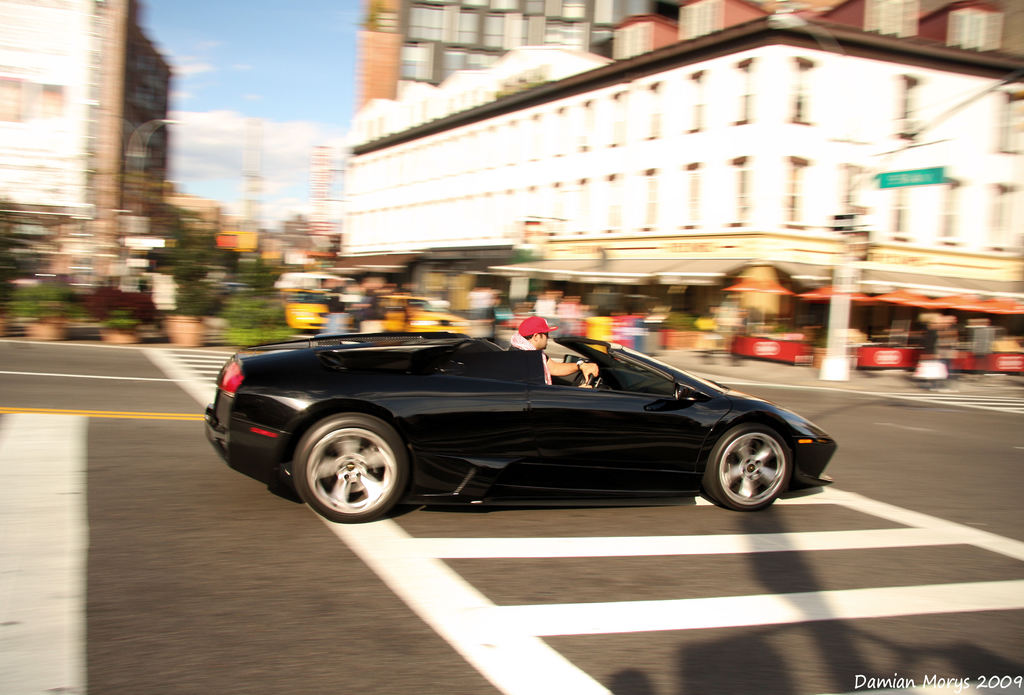Car: (204, 328, 840, 521), (285, 287, 336, 332)
